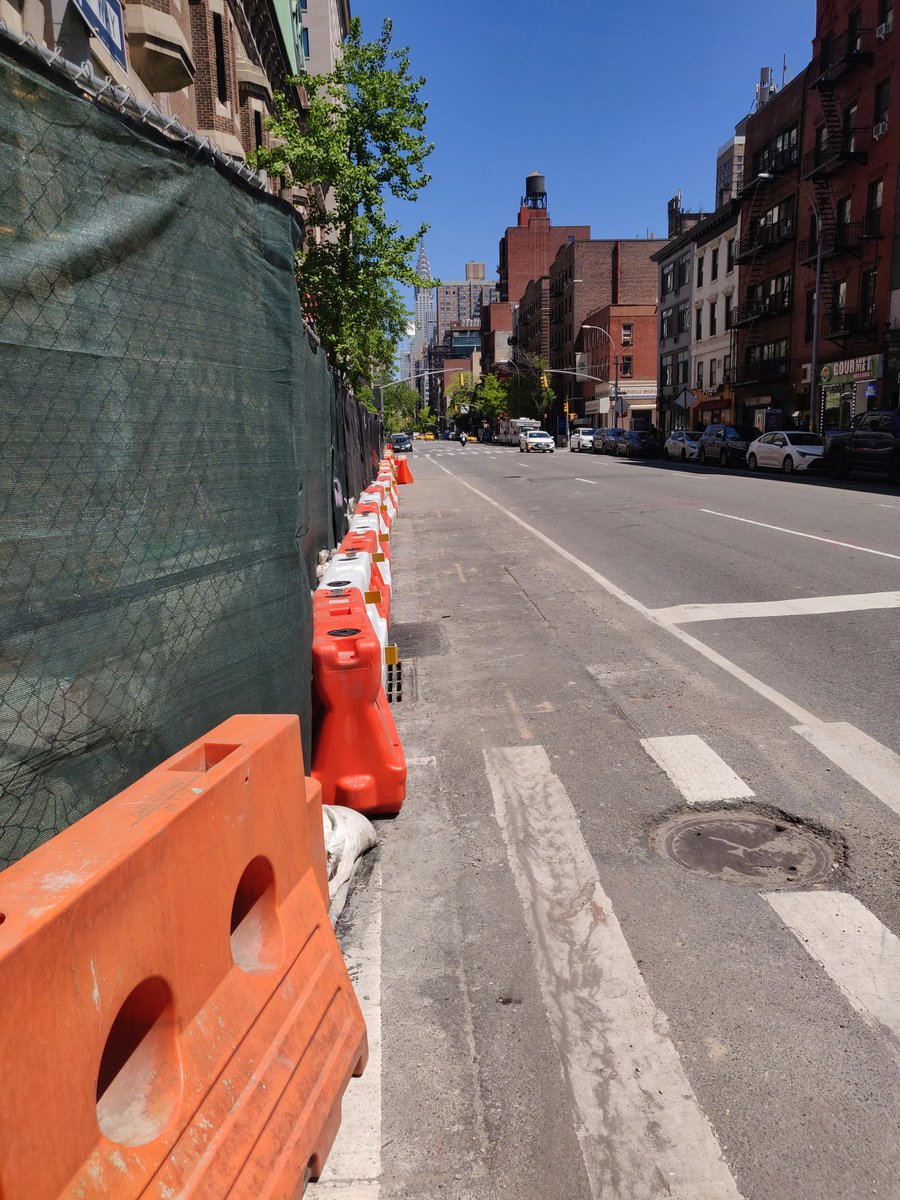building: (733, 16, 900, 453), (653, 194, 749, 427), (559, 238, 666, 420), (499, 218, 583, 388)
crosswalk: (327, 701, 900, 1200)
manhole cover: (633, 762, 866, 914)
sky: (414, 1, 777, 249)
street: (422, 436, 900, 1200)
tree: (248, 25, 448, 416)
